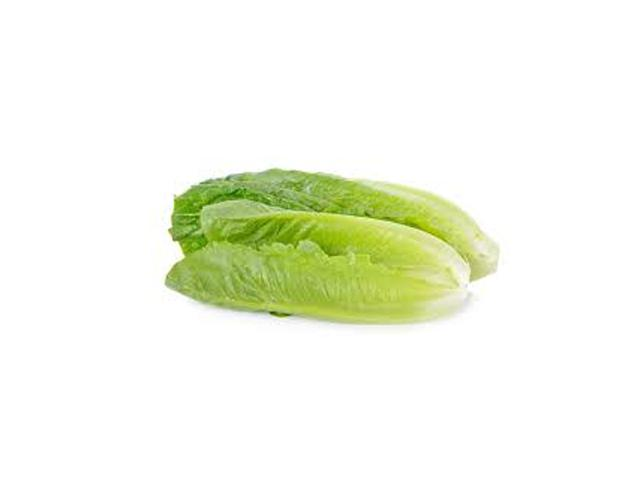lettuce: (160, 169, 495, 344)
